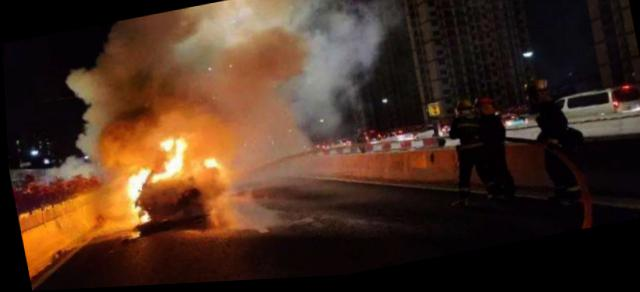fire: (118, 130, 234, 239)
